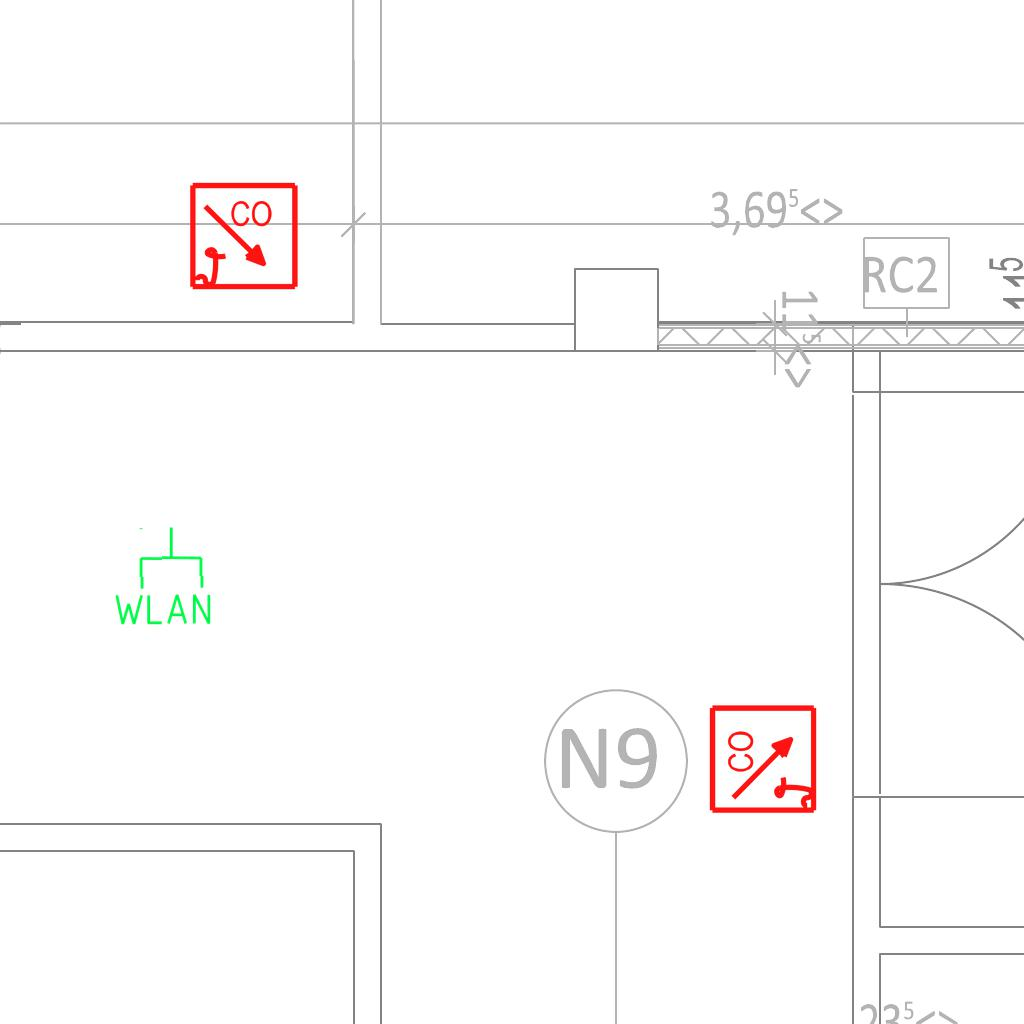ROA_Rauchmelder_optisch_mit_Signalgeber_(Sockelsirene): (188, 181, 301, 294), (708, 702, 821, 815)
WLAN: (108, 523, 216, 630)
